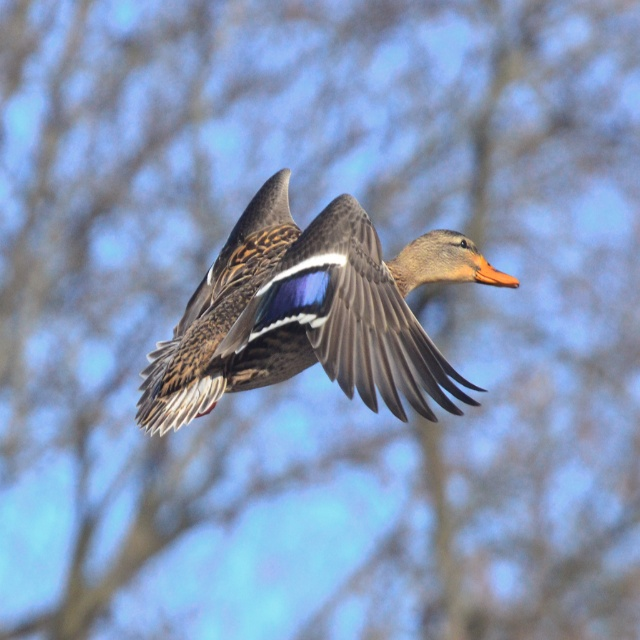Duck: (164, 183, 529, 441)
